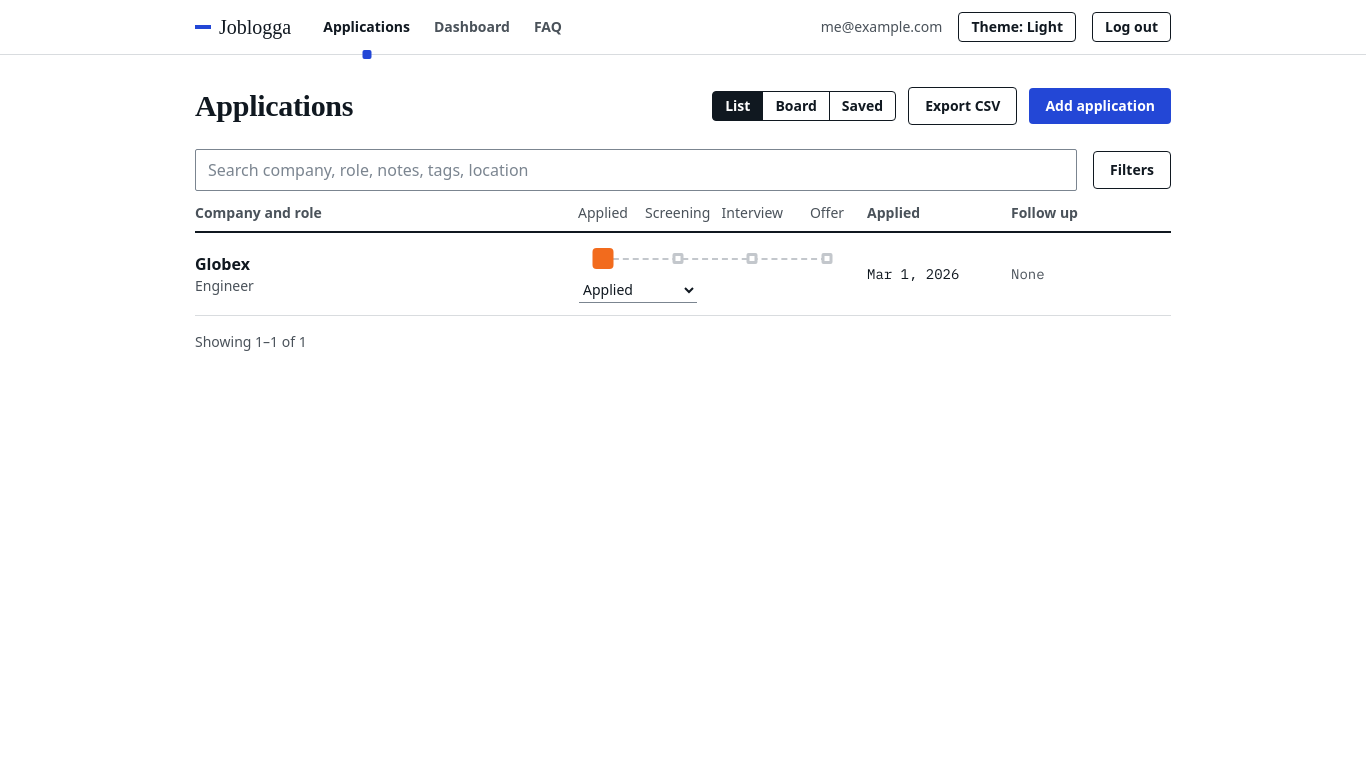
Scenario: session expiry › sends the user to login with an explanation when the token expires mid-session
Select "Offer" in the dropdown named "Status for Globex": (638, 290) [579, 277, 697, 303]
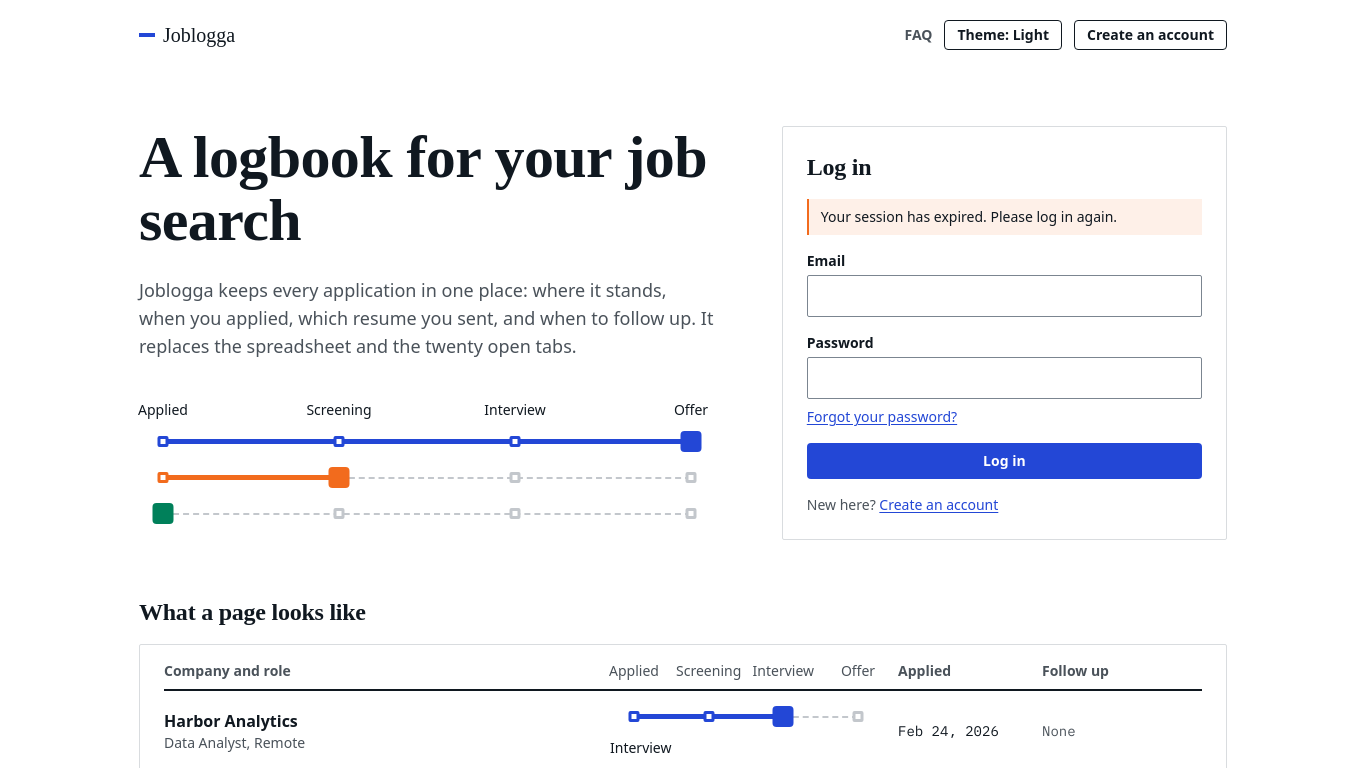
Result: the heading "Log in" is shown at [807, 154, 871, 180]
Result: the message shows "session has expired" at [821, 207, 1117, 226]
